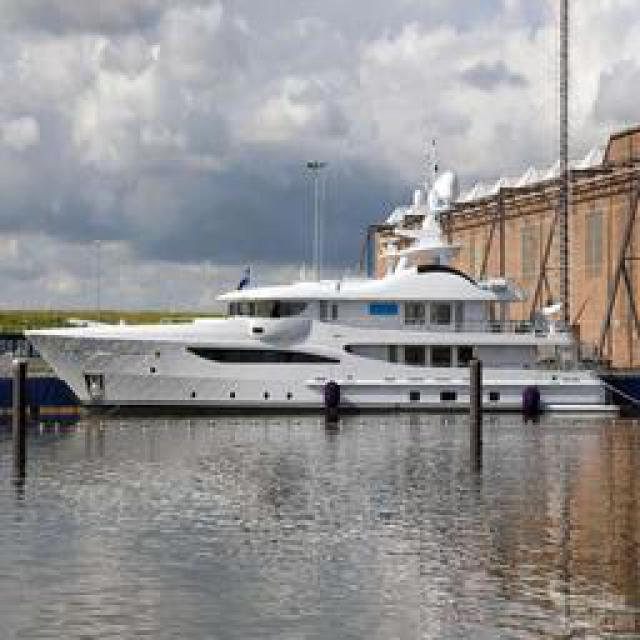Ship: (26, 170, 636, 418)
